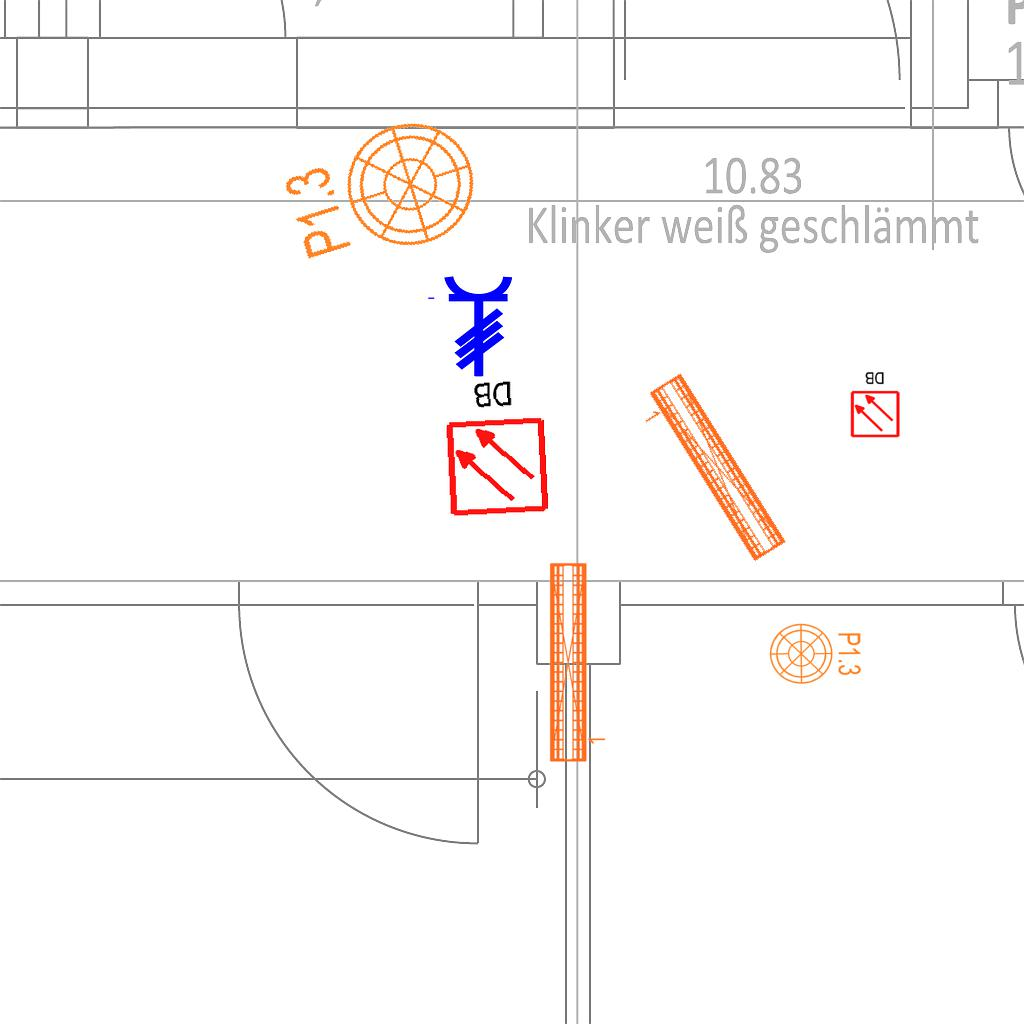Aufbaurundleuchte_LED_Treppenhaus: (256, 93, 493, 286), (768, 622, 870, 691)
Buero_Pendelleuchten_LED: (627, 367, 793, 578), (545, 559, 610, 765)
CEE_Drehstrom_Steckdose_16_32_A: (425, 274, 515, 378)
DB_Melder_in_Doppelboden_mit_Revisionsoeffnung_mind_40_x_40_cm: (434, 369, 556, 524), (846, 367, 903, 441)
